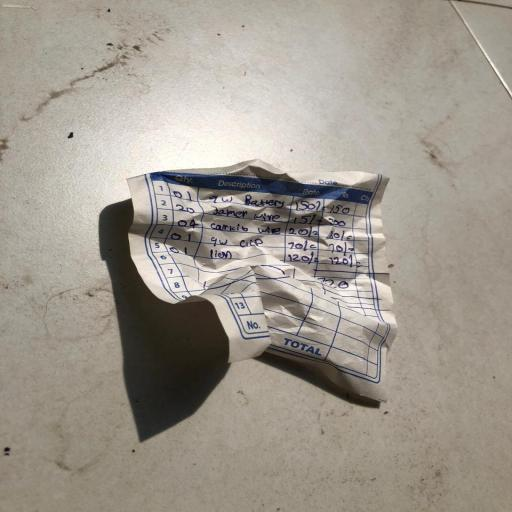waste: (87, 137, 427, 415)
